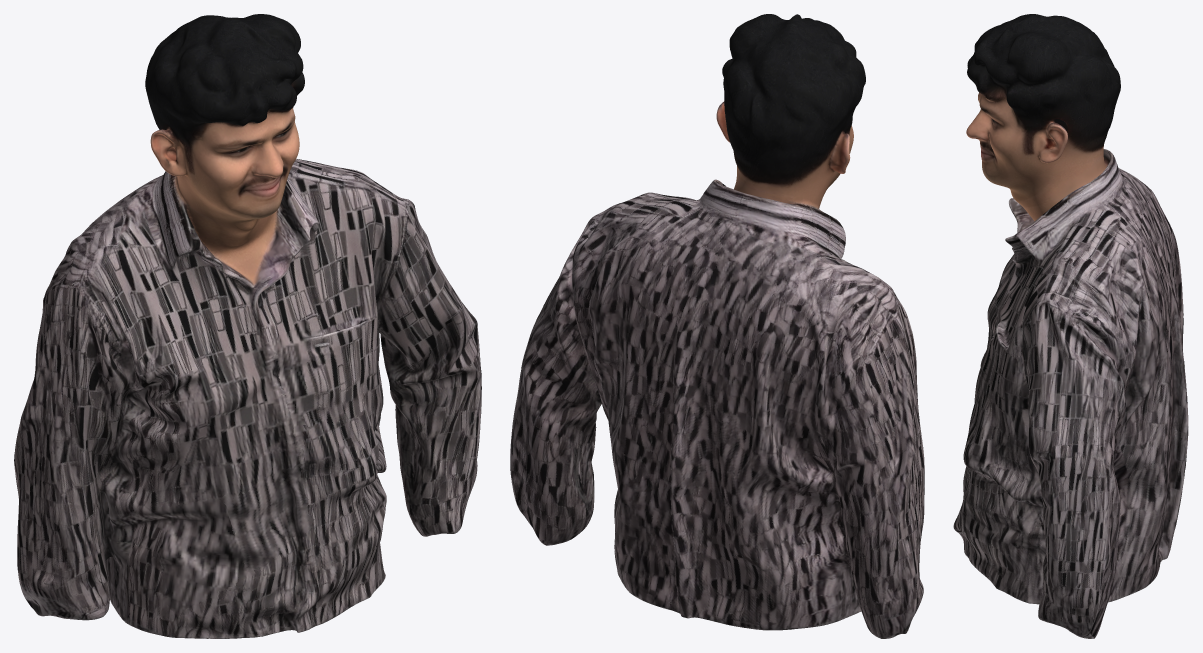
The model's file is Meshy_AI_Sunlit_Hillside_Portr_1009143950_texture.glb.
The picture shows the model from 3 angles, left to right: view 1: azimuth 30°, elevation 25°; view 2: azimuth 150°, elevation 25°; view 3: azimuth 270°, elevation 25°; orthographic projection. The views are drawn at different scales.
Size of the model in its own units: 1.48 by 1.9 by 0.7741.
1 material, 1 textured.
